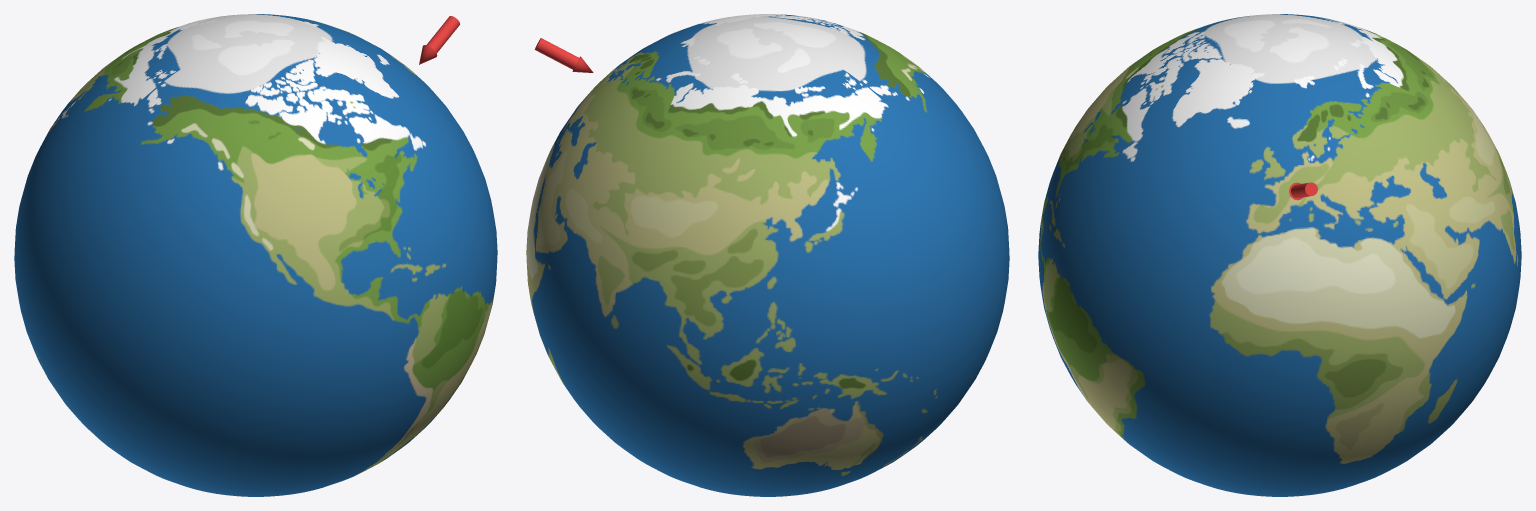
Rendered from island1.glb.
The picture shows the model from 3 angles, left to right: view 1: azimuth 30°, elevation 25°; view 2: azimuth 150°, elevation 25°; view 3: azimuth 270°, elevation 25°; orthographic projection.
Visible parts, largest first — view 1: Sphere3, Cone; view 2: Sphere3, Cone; view 3: Sphere3.
Part boxes in pixels (x1,y1,x2,y2): Sphere3: [14, 14, 497, 496]; Cone: [419, 16, 459, 64]; Sphere3: [526, 14, 1009, 496]; Cone: [534, 38, 593, 72]; Sphere3: [1038, 14, 1521, 496].
Bounding box in the file's own units: 0.5192 × 0.5092 × 0.5092.
Materials: 2 (1 with a texture image).
